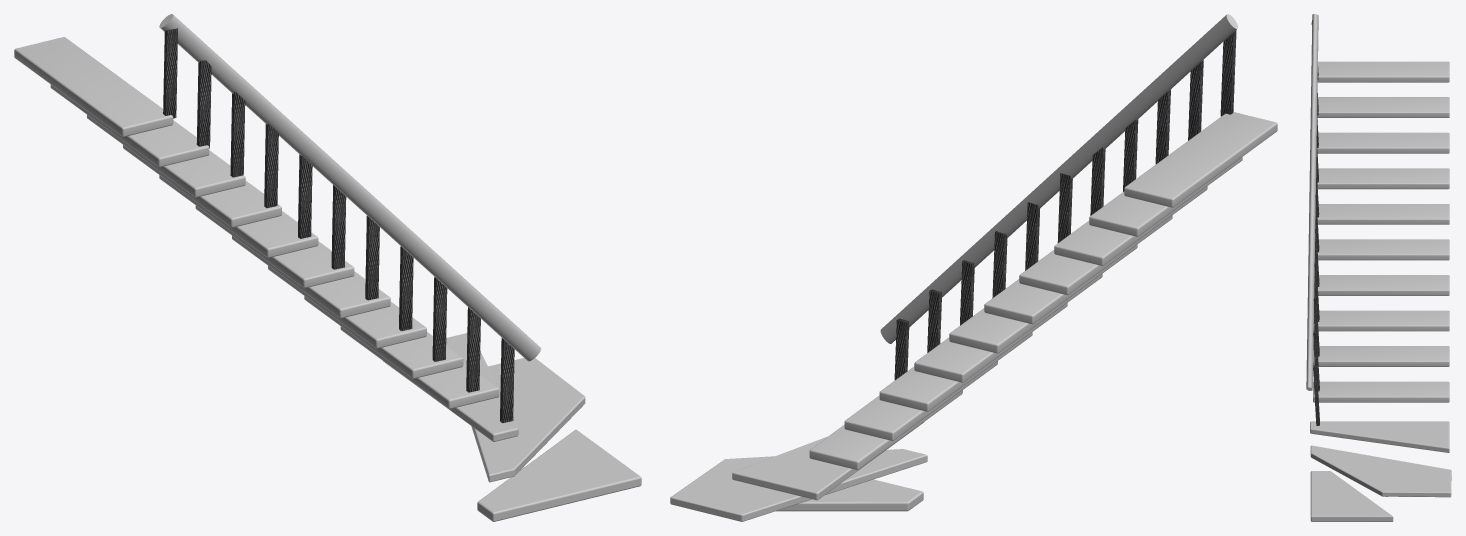
The model's file is stairs.obj.
The picture shows the model from 3 angles, left to right: view 1: azimuth 30°, elevation 25°; view 2: azimuth 150°, elevation 25°; view 3: azimuth 270°, elevation 25°; orthographic projection. The views are drawn at different scales.
Parts seen in each view (by area): view 1: Stepenice_Cube, Stubovi_Cube.004, Gelender_Cylinder; view 2: Stepenice_Cube, Stubovi_Cube.004, Gelender_Cylinder; view 3: Stepenice_Cube, Gelender_Cylinder, Stubovi_Cube.004.
Boxes of the visible parts, x1=… form: Stepenice_Cube: x1=14, y1=37, x2=641, y2=521; Stubovi_Cube.004: x1=163, y1=28, x2=514, y2=423; Gelender_Cylinder: x1=159, y1=14, x2=541, y2=361; Stepenice_Cube: x1=670, y1=112, x2=1277, y2=521; Stubovi_Cube.004: x1=894, y1=30, x2=1236, y2=380; Gelender_Cylinder: x1=880, y1=14, x2=1237, y2=343; Stepenice_Cube: x1=1310, y1=61, x2=1451, y2=521; Gelender_Cylinder: x1=1306, y1=14, x2=1318, y2=390; Stubovi_Cube.004: x1=1311, y1=20, x2=1319, y2=425.
Size of the model in its own units: 5.58 by 5.98 by 2.15.
